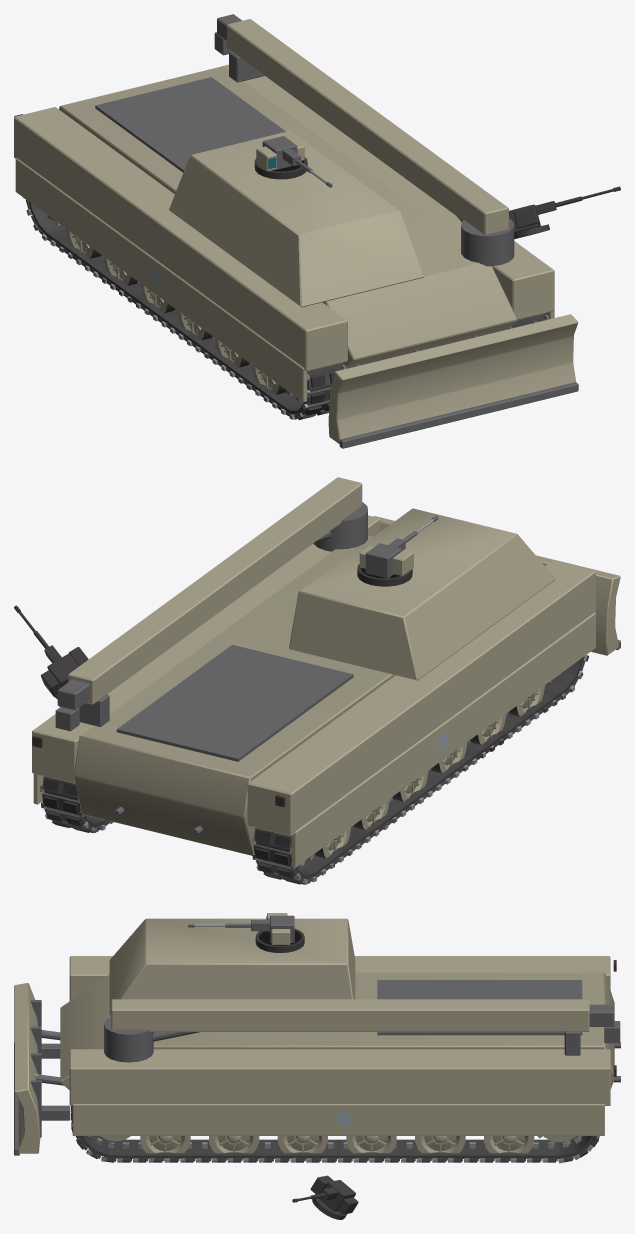
Rendered from recoveryVehicle__armoured_recovery_vehicle.glb.
3 renders of one model, top to bottom at view 1: azimuth 30°, elevation 25°; view 2: azimuth 150°, elevation 25°; view 3: azimuth 270°, elevation 25°, orthographic. The views are drawn at different scales.
Parts seen in each view (by area): view 1: Hull_Mesh, Track_L_Mesh, Wreck, Turret_Mesh; view 2: Hull_Mesh, Track_L_Mesh, Wreck, Track_R_Mesh, Turret_Mesh; view 3: Hull_Mesh, Track_R_Mesh, Wreck, Wheel_R3_Mesh, Wheel_R4_Mesh, Wheel_R0_Mesh, Wheel_R2_Mesh, Wheel_R5_Mesh, Wheel_R1_Mesh, Turret_Mesh, Gun_Mesh.
Part boxes in pixels (x1=…): Hull_Mesh: x1=14, y1=14, x2=578, y2=448; Track_L_Mesh: x1=23, y1=197, x2=346, y2=419; Wreck: x1=27, y1=157, x2=620, y2=417; Turret_Mesh: x1=256, y1=136, x2=304, y2=171; Hull_Mesh: x1=32, y1=477, x2=620, y2=867; Track_L_Mesh: x1=252, y1=655, x2=587, y2=884; Wreck: x1=14, y1=564, x2=588, y2=884; Track_R_Mesh: x1=39, y1=776, x2=113, y2=833; Turret_Mesh: x1=359, y1=543, x2=413, y2=578; Hull_Mesh: x1=14, y1=918, x2=620, y2=1155; Track_R_Mesh: x1=71, y1=1106, x2=599, y2=1163; Wreck: x1=71, y1=928, x2=597, y2=1219; Wheel_R3_Mesh: x1=277, y1=1136, x2=327, y2=1160; Wheel_R4_Mesh: x1=209, y1=1136, x2=259, y2=1159; Wheel_R0_Mesh: x1=484, y1=1136, x2=534, y2=1160; Wheel_R2_Mesh: x1=346, y1=1136, x2=396, y2=1160; Wheel_R5_Mesh: x1=140, y1=1136, x2=190, y2=1160; Wheel_R1_Mesh: x1=415, y1=1136, x2=465, y2=1159; Turret_Mesh: x1=266, y1=913, x2=294, y2=944; Gun_Mesh: x1=188, y1=920, x2=269, y2=931.
Size of what is drawn, in the model's own units: 6.4 by 2.62 by 8.3.
